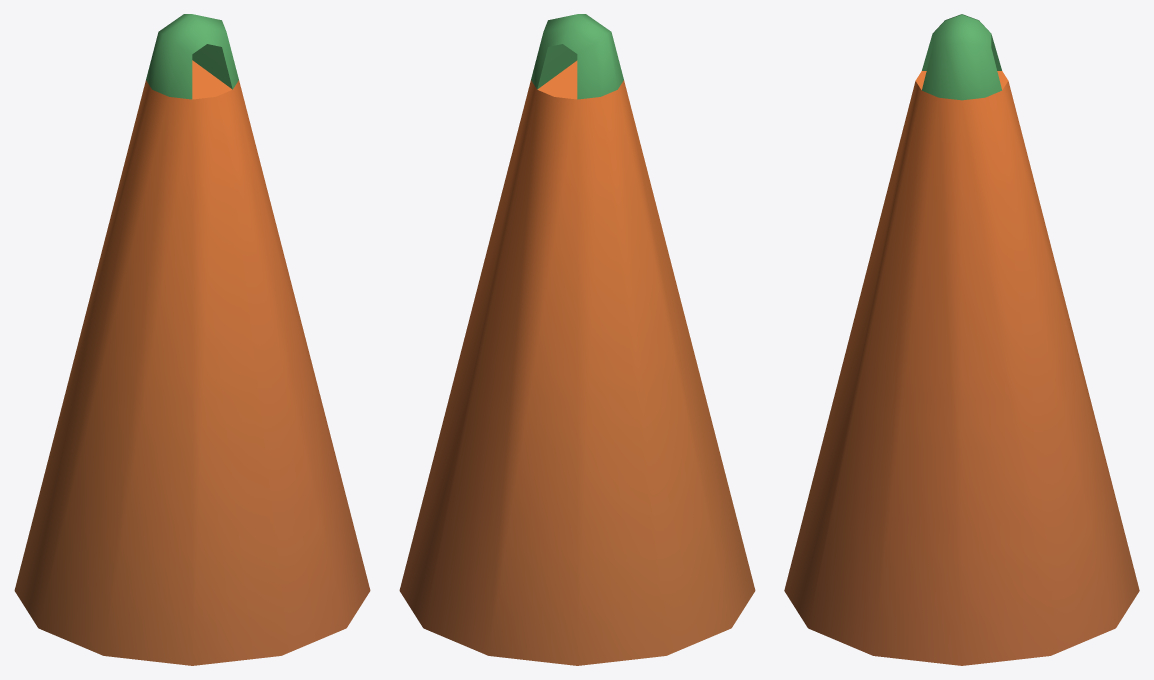
Rendered from Buoy_Pyramid_C.fbx.
3 renders of one model, left to right at view 1: azimuth 30°, elevation 25°; view 2: azimuth 150°, elevation 25°; view 3: azimuth 270°, elevation 25°, orthographic.
Parts seen in each view (by area): view 1: Buoy_Pyramid_C; view 2: Buoy_Pyramid_C; view 3: Buoy_Pyramid_C.
Boxes of the visible parts, x1,y1,x2,y2 form: Buoy_Pyramid_C: (14, 14, 370, 665); Buoy_Pyramid_C: (399, 14, 755, 665); Buoy_Pyramid_C: (784, 14, 1139, 665).
Size of the model in its own units: 64.62 by 115 by 64.62.
